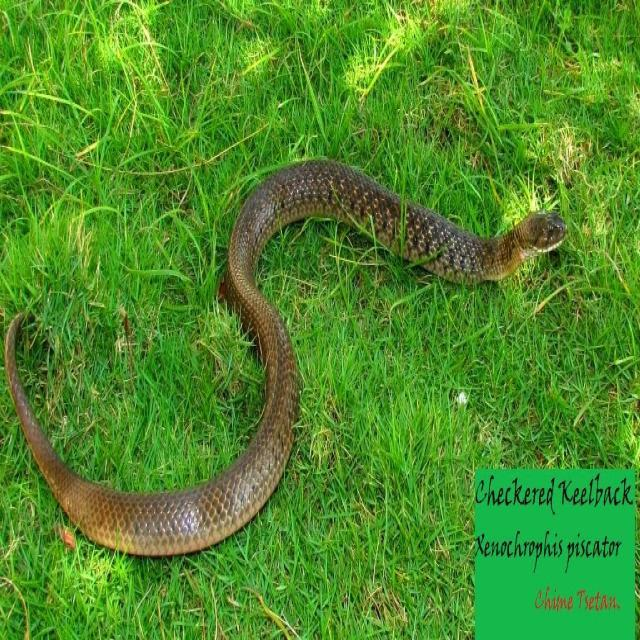Snake: (0, 149, 571, 567)
